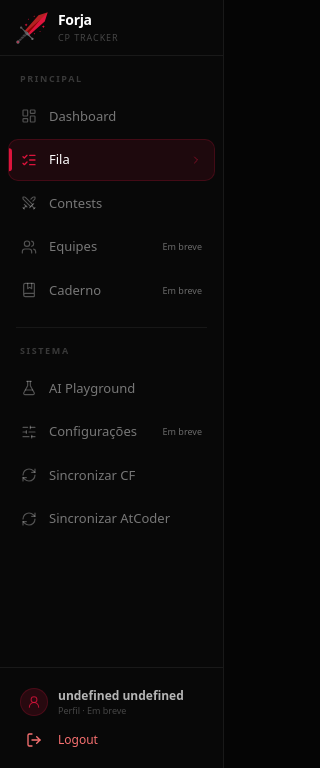
Test: Sidebar › falha ao consultar estado não repete a sincronização nem anuncia sucesso
The image size is (320, 768).
Click the button "Sincronizar CF": x=112, y=475 x1=8 y1=454 x2=215 y2=496
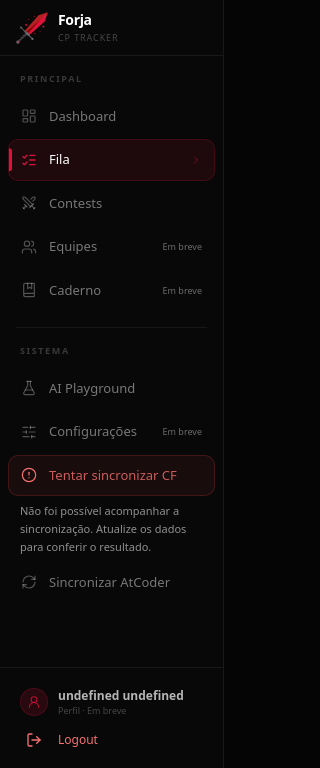
Now the text "Não foi possível acompanhar" is shown, box x1=20 y1=503 x2=186 y2=554
